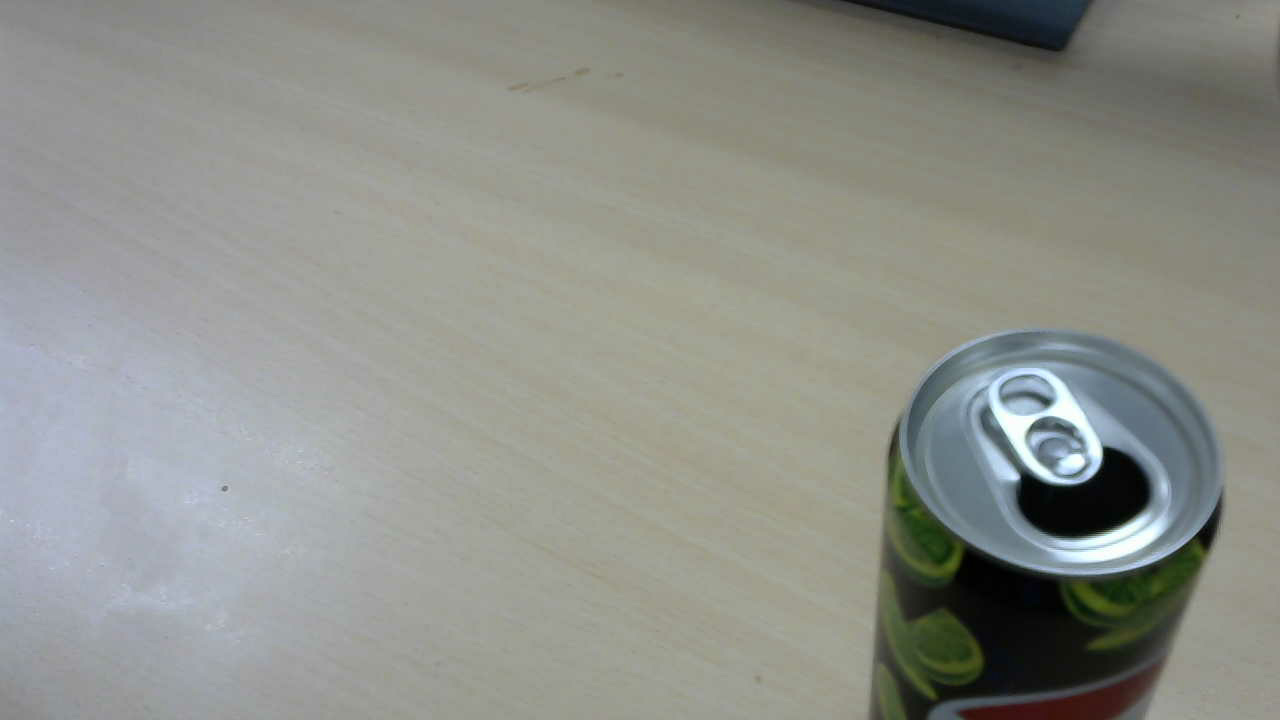Pepsi: (873, 320, 1241, 699)
